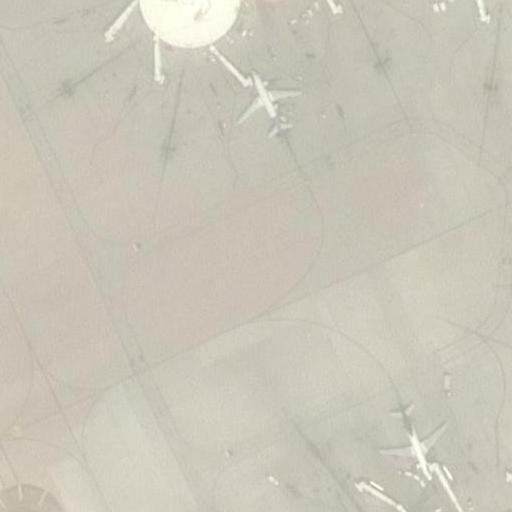Aircraft: (381, 397, 445, 485), (235, 67, 298, 141)
